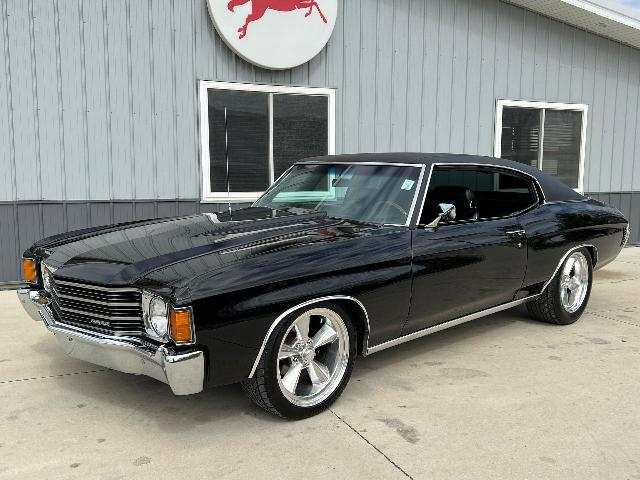chevelle-1972: (18, 153, 630, 419)
